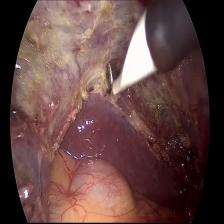Hook: (105, 8, 158, 101)
